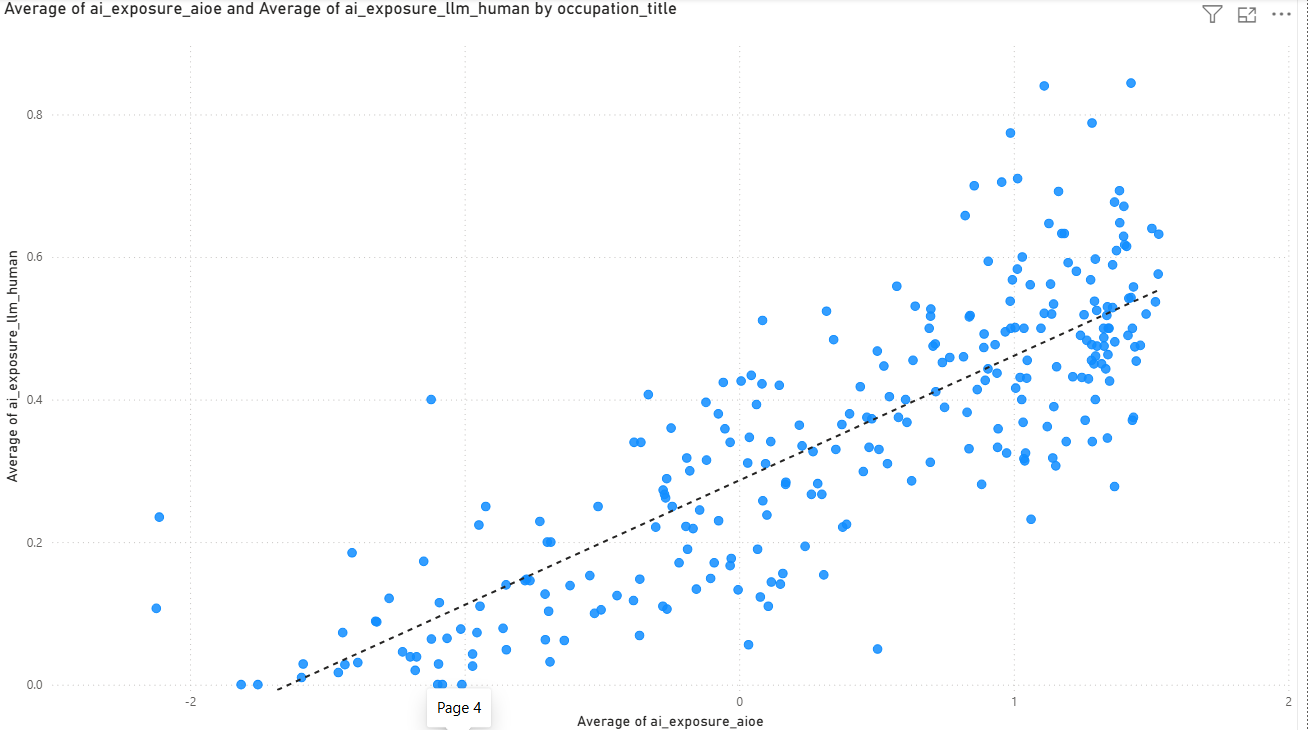

The dashboard page shown, as its layout file describes it:
{"tool":"powerbi","page":{"name":"Page 4","canvas":[1280,720],"ordinal":3},"visuals":[{"type":"scatterChart","fields":{"X":["Avg(Occupation.ai_exposure_aioe)"],"Y":["Avg(Occupation.ai_exposure_llm_human)"],"Category":["Occupation.occupation_title"]},"box":[0,0,1270.5,720.2],"z":0}]}

Visuals, with their boxes on the page's 1280x720 design canvas (x1, y1, x2, y2). These are canvas units, not pixel positions in the 1308x730 screenshot, which may show the page scaled, cropped or inside an application window:
scatterChart - Avg(Occupation.ai_exposure_aioe) x Avg(Occupation.ai_exposure_llm_human): <box>0,0,1270,720</box>
